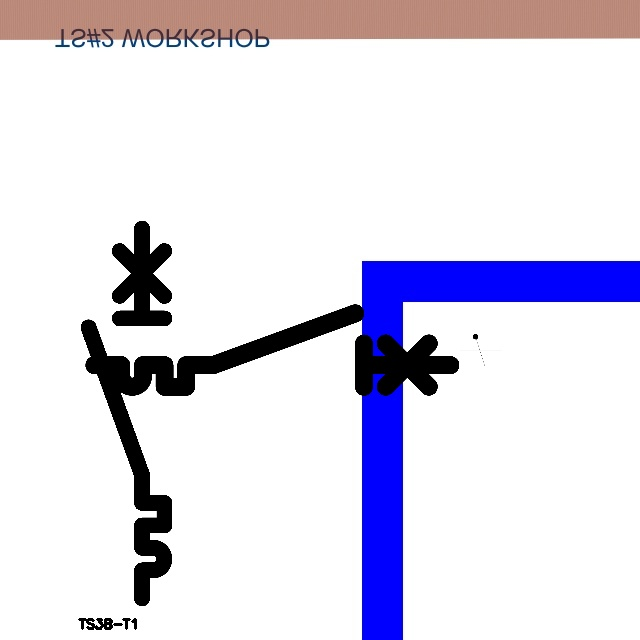interruptor_termomagnetico: (79, 219, 174, 608), (85, 304, 459, 396)
